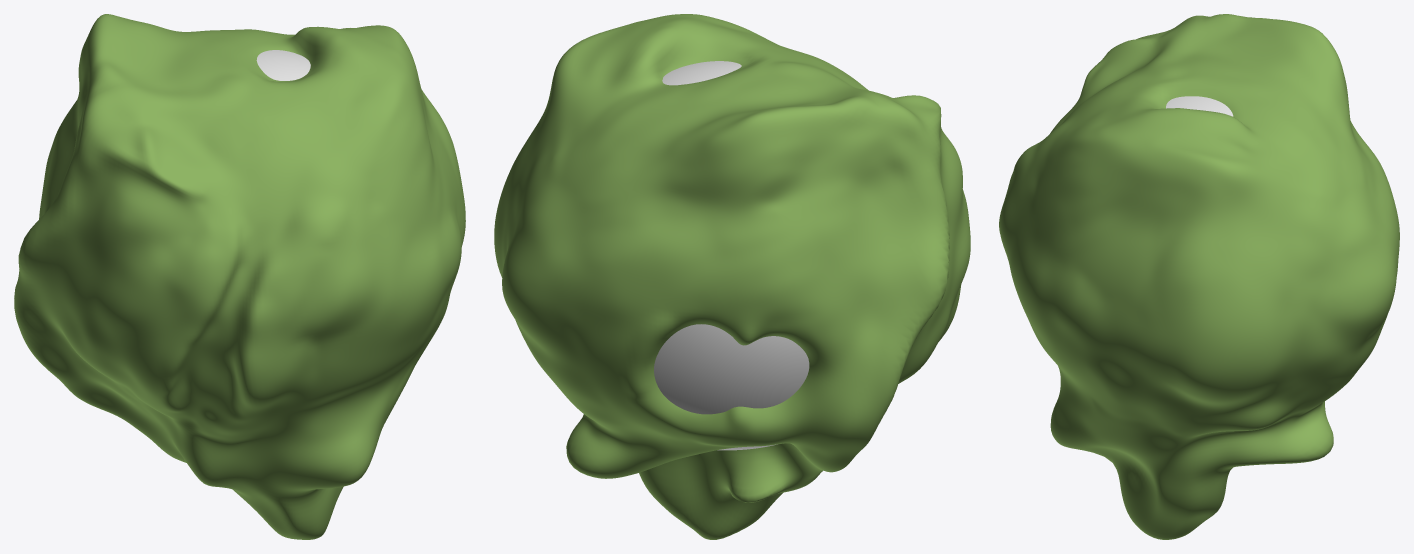
The model's file is earth.glb.
The picture shows the model from 3 angles, left to right: view 1: azimuth 30°, elevation 25°; view 2: azimuth 150°, elevation 25°; view 3: azimuth 270°, elevation 25°; orthographic projection. The views are drawn at different scales.
Parts seen in each view (by area): view 1: Planet, Water; view 2: Planet, Water; view 3: Planet, Water.
Boxes of the visible parts, box(x1,y1,x2,y2) form: Planet: box(14, 14, 465, 539); Water: box(256, 50, 310, 80); Planet: box(494, 14, 970, 539); Water: box(654, 61, 809, 450); Planet: box(999, 14, 1399, 539); Water: box(1166, 96, 1233, 116).
Size of the model in its own units: 474 by 524 by 419.
